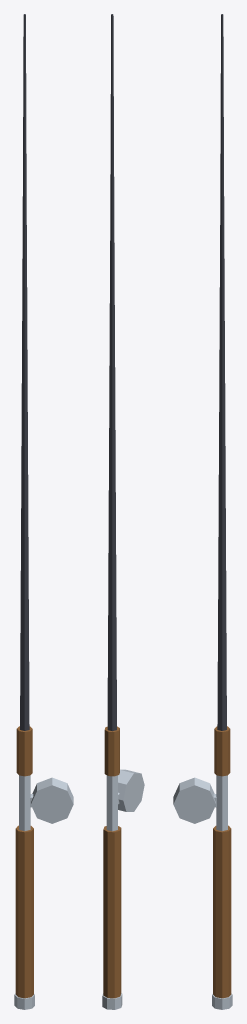
Rendered from Tool_WZ_FishingRod_LOD1.glb.
3 renders of one model, left to right at view 1: azimuth 90°, elevation 25°; view 2: azimuth 150°, elevation 25°; view 3: azimuth 270°, elevation 25°, orthographic.
Visible parts, largest first — view 1: Tool_WZ_FishingRod; view 2: Tool_WZ_FishingRod; view 3: Tool_WZ_FishingRod.
Boxes of the visible parts, left/top/right/bottom form: Tool_WZ_FishingRod: left=14, top=14, right=73, bottom=1009; Tool_WZ_FishingRod: left=102, top=14, right=144, bottom=1009; Tool_WZ_FishingRod: left=173, top=14, right=232, bottom=1009.
Size of the model in its own units: 0.034 by 1.79 by 0.097.
